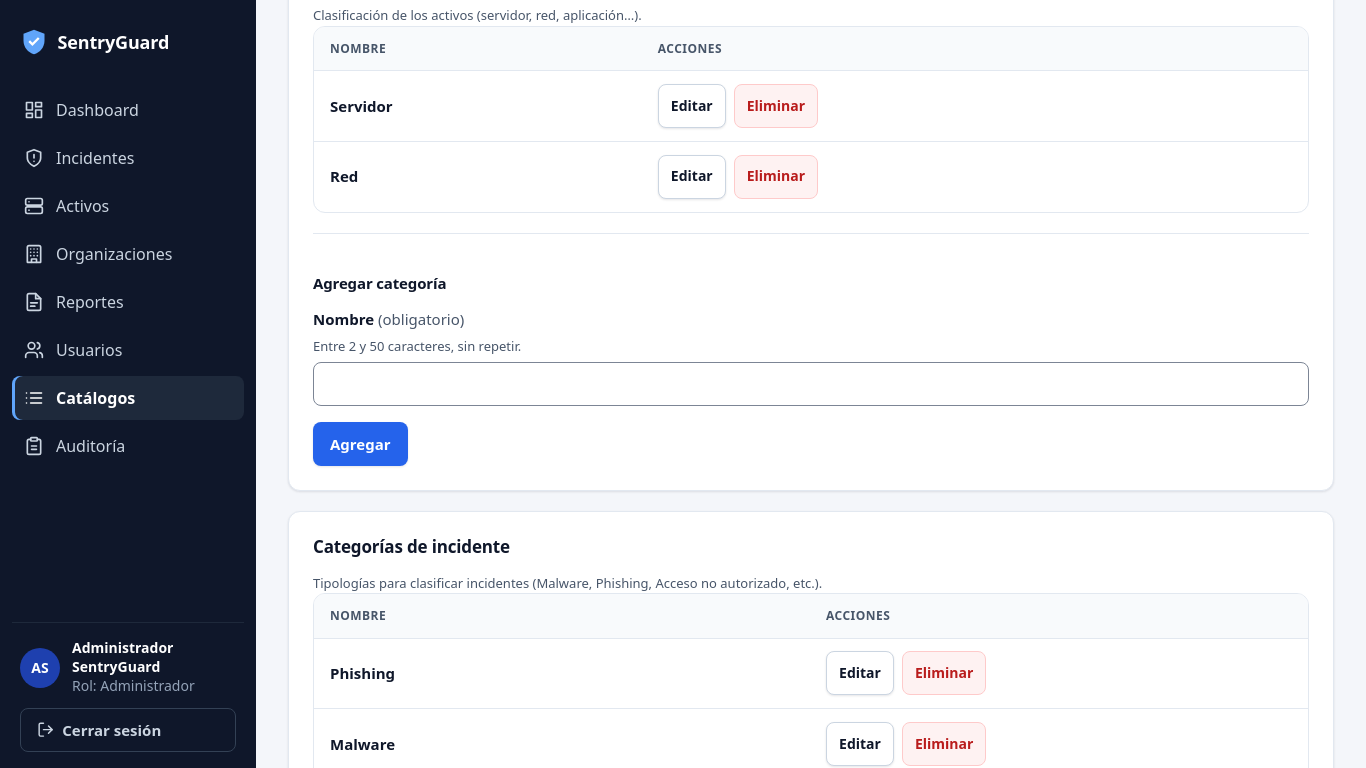
Organizaciones y catálogos › el Administrador agrega una categoría de activo
(page scrolled)
Type "IoT" into the field labelled "Nombre (obligatorio)".
click(811, 384); type("IoT")  # box [313,362,1309,406]
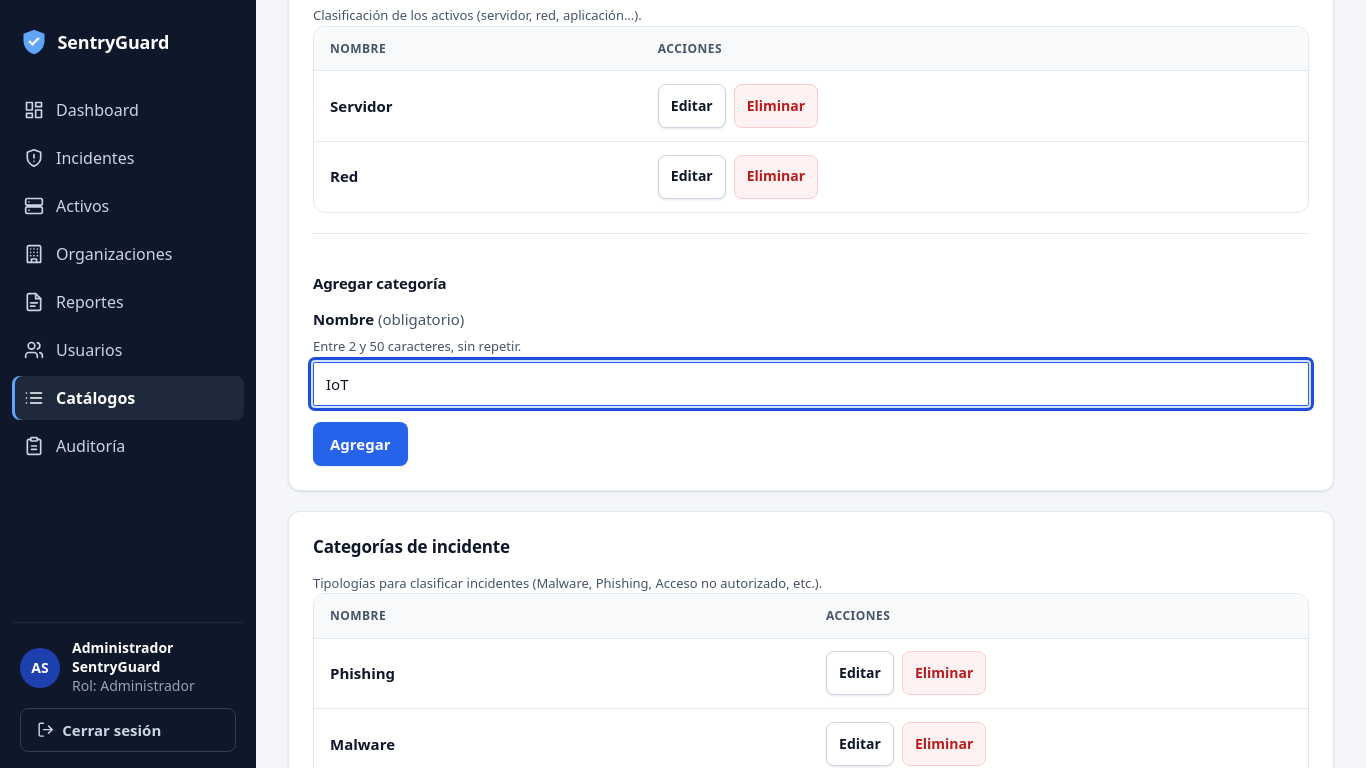
Click the button "Agregar".
click(360, 444)  # box [313,422,408,466]
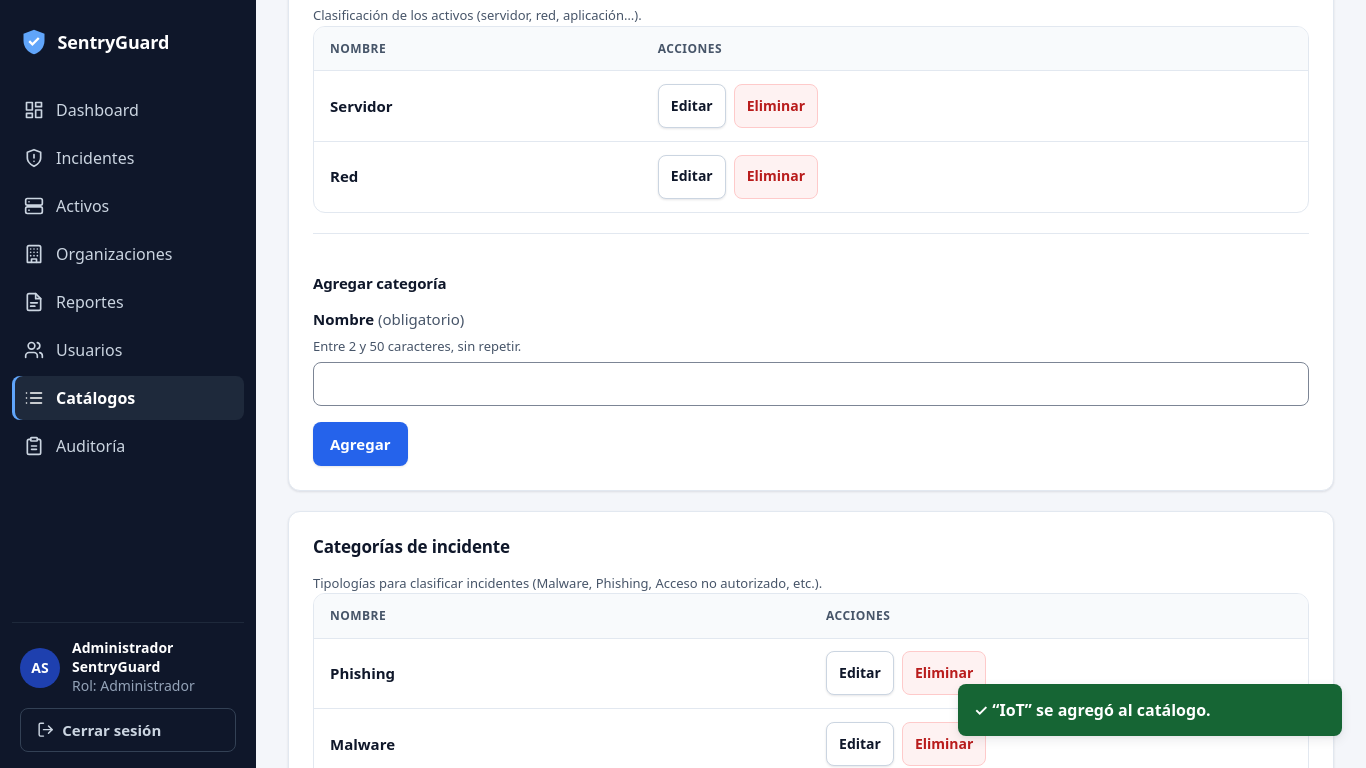
Check: the text "“IoT” se agregó al catálogo." is shown, box [992,699,1211,721]
